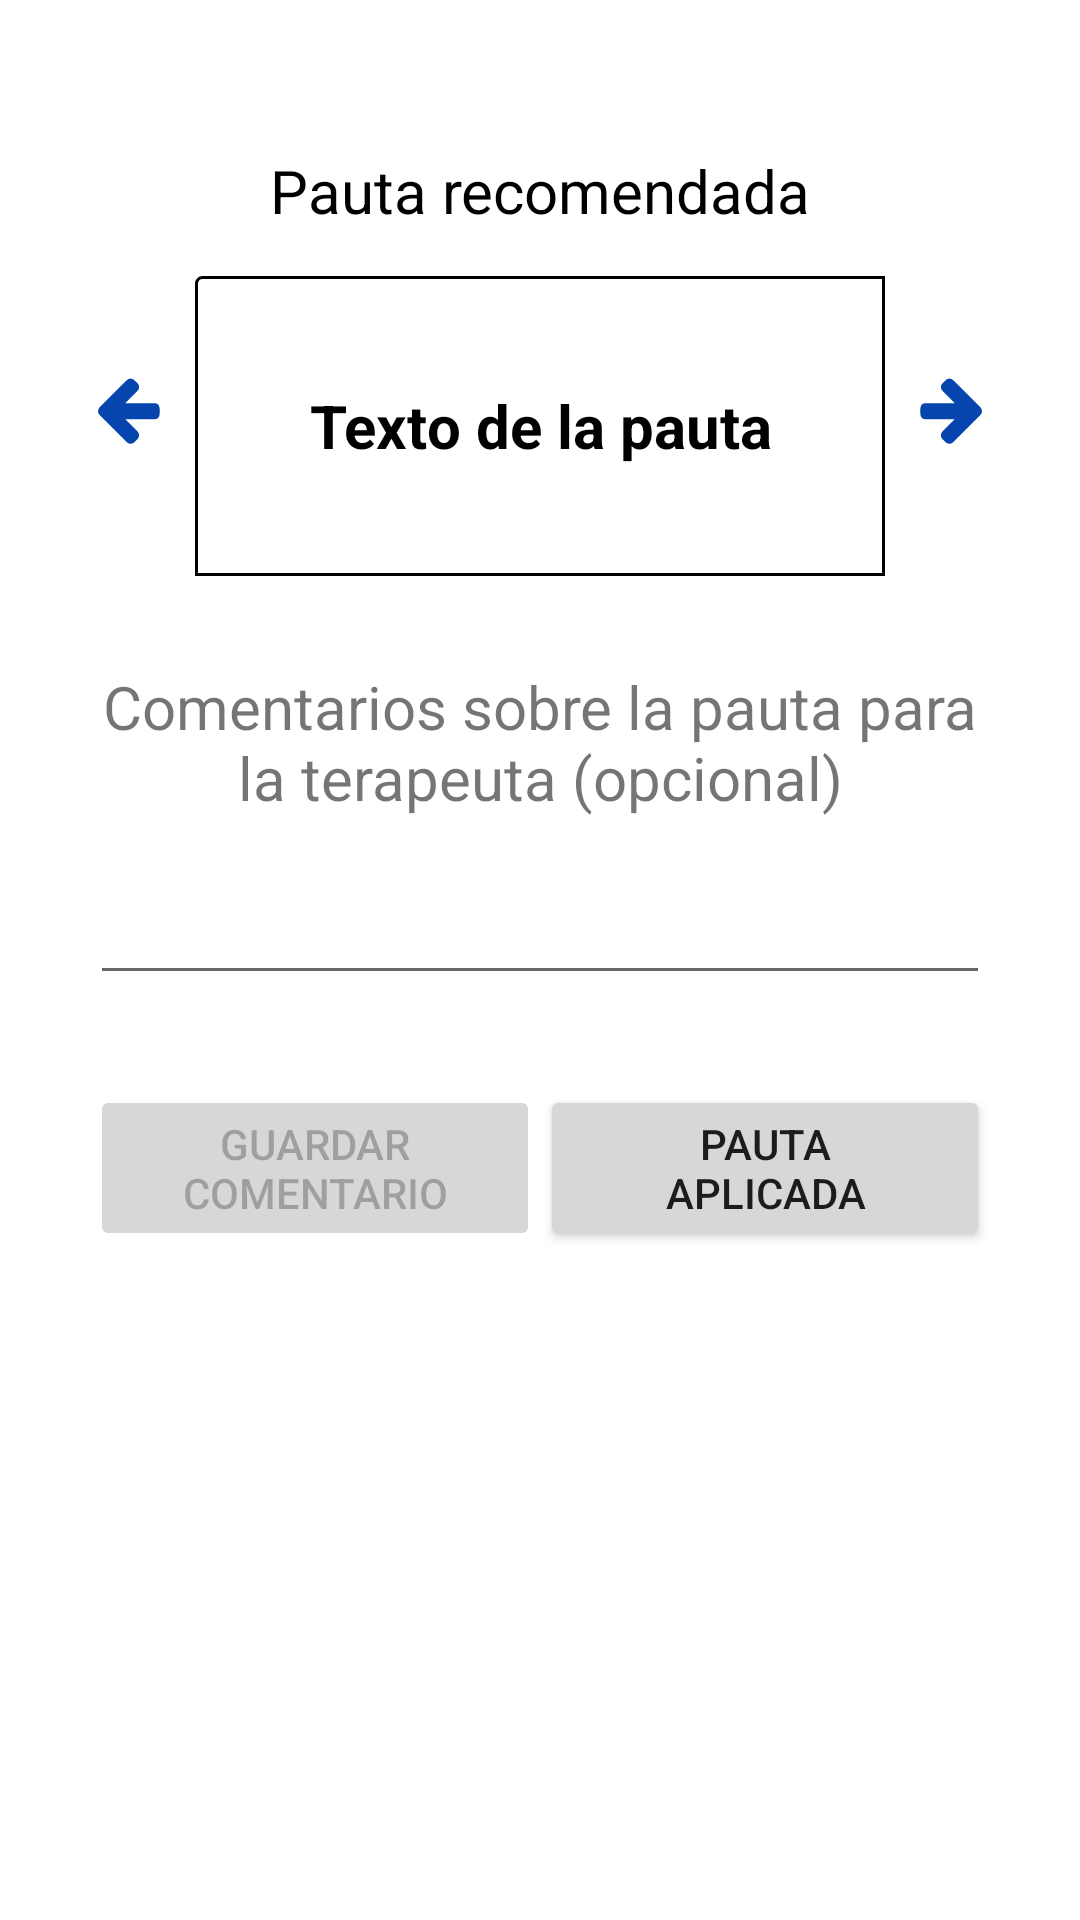

Named icons in this screenshot (1080px x 1920px) and their bounding boxes, (x1, y1, x2, y2):
arrow left: (98, 378, 160, 444)
arrow right: (920, 378, 982, 444)
